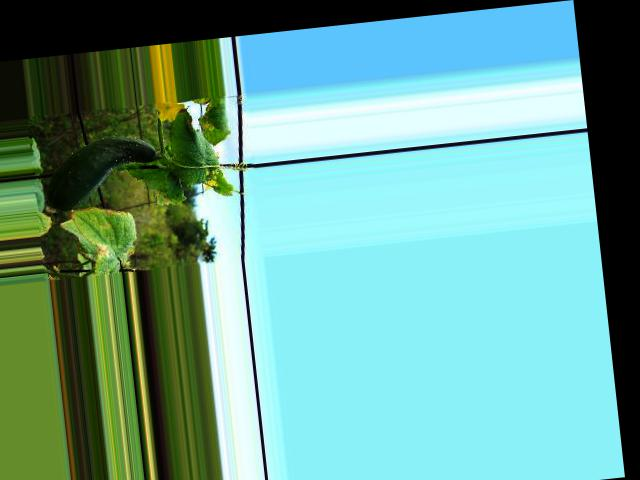cucumber: (41, 132, 163, 214)
